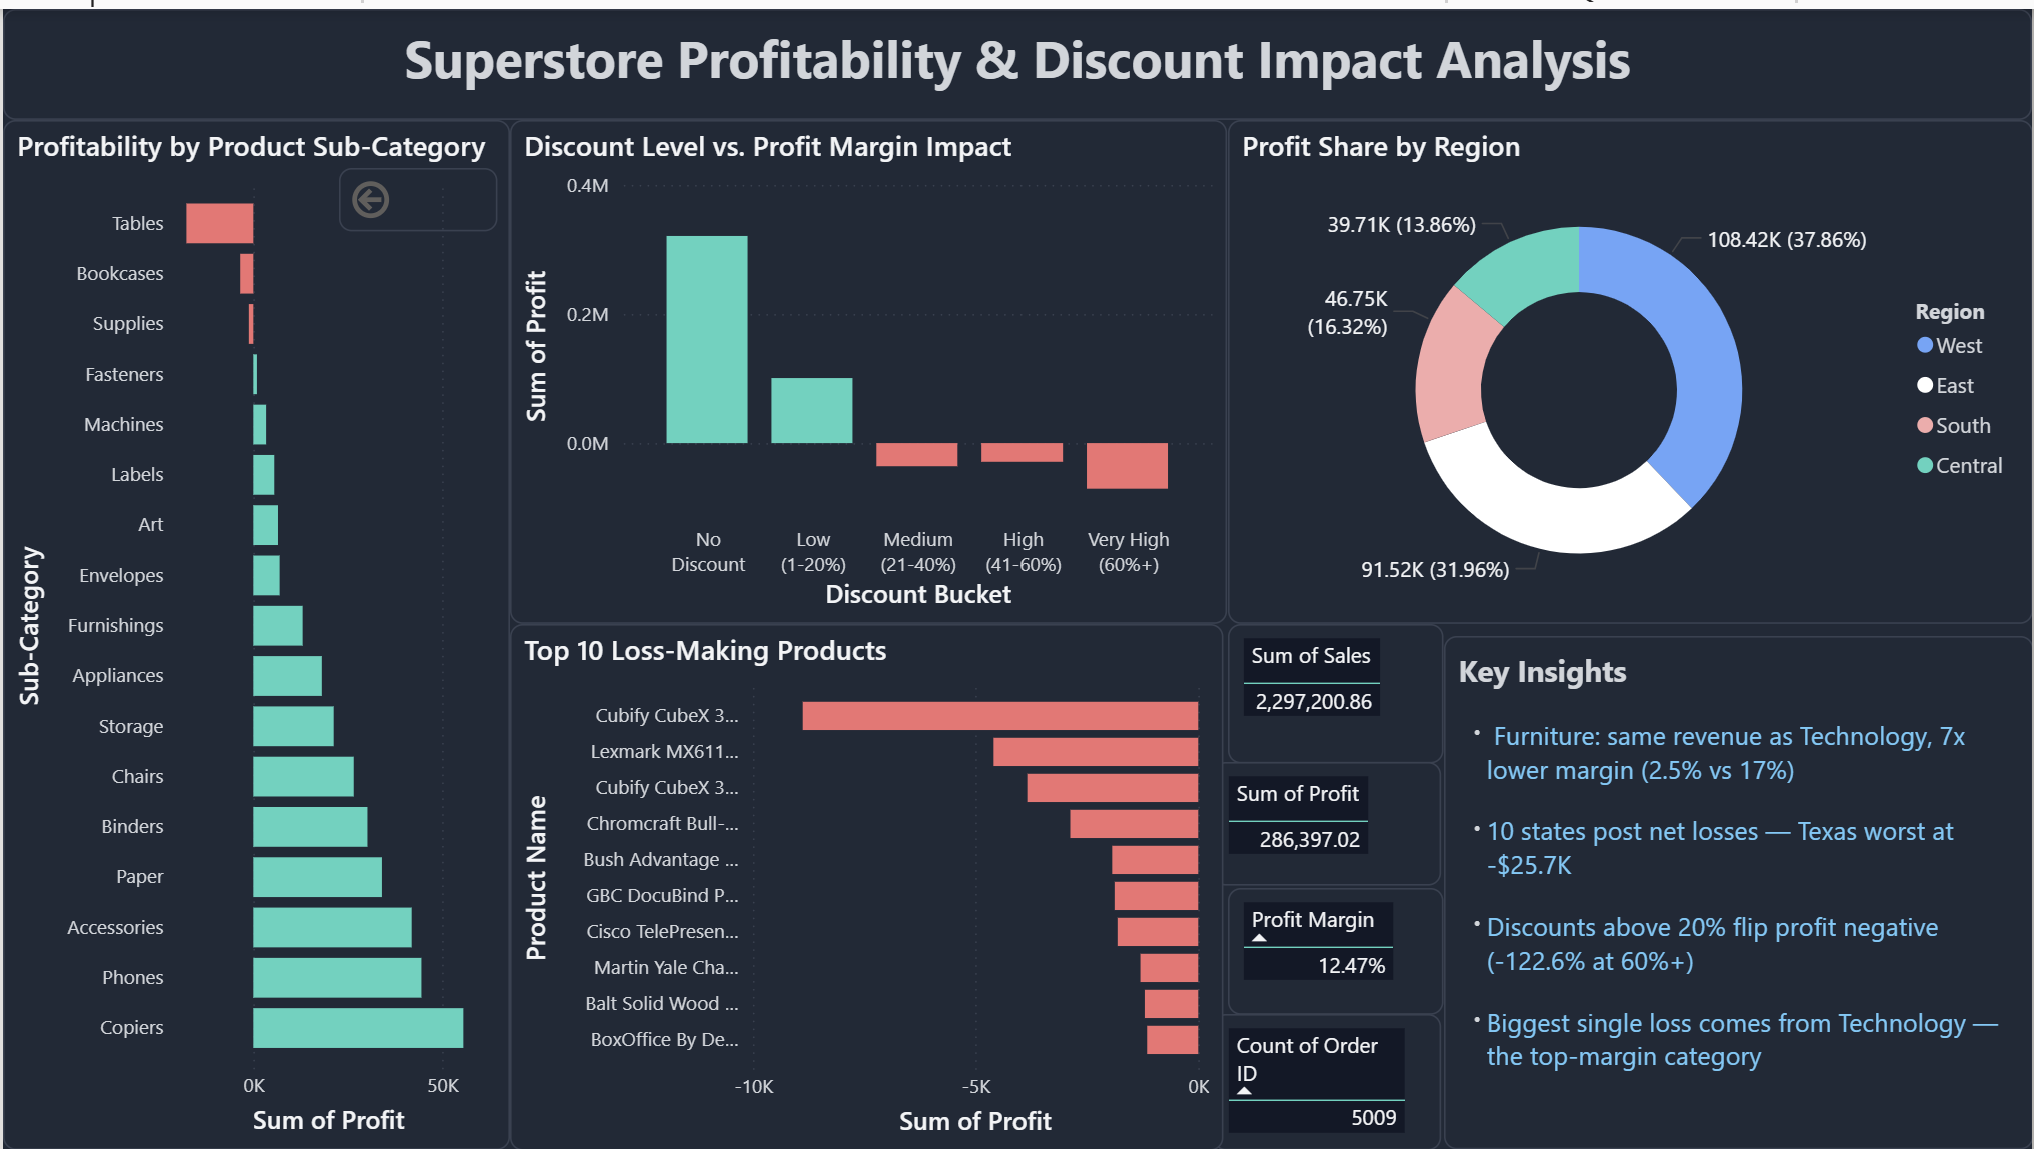

The dashboard page shown, as its layout file describes it:
{"tool":"powerbi","page":{"name":"Page 1","canvas":[1280,720],"ordinal":0},"visuals":[{"type":"tableEx","fields":{"Values":["Sum(Sample - Superstore.Sales)"]},"box":[772,388,136,88],"z":0},{"type":"tableEx","fields":{"Values":["Sum(Sample - Superstore.Profit)"]},"box":[764,476,144,78],"z":1000},{"type":"tableEx","fields":{"Values":["Sample - Superstore.Order ID"]},"box":[764,634,144,86],"z":2000},{"type":"tableEx","fields":{"Values":["Sample - Superstore.Profit Margin"]},"box":[772,554,136,80],"z":3000},{"type":"clusteredBarChart","title":"Profitability by Product Sub-Category","fields":{"Category":["Sample - Superstore.Sub-Category"],"Y":["Sum(Sample - Superstore.Profit)"]},"box":[0,70,320,650],"z":4000},{"type":"clusteredColumnChart","title":"Discount Level vs. Profit Margin Impact","fields":{"Category":["Sample - Superstore.Discount Bucket"],"Y":["Sum(Sample - Superstore.Profit)"]},"box":[320,70,452,318],"z":5000},{"type":"actionButton","box":[212,100,100,40],"z":6000},{"type":"clusteredBarChart","title":"Top 10 Loss-Making Products","fields":{"Category":["Sample - Superstore.Product Name"],"Y":["Sum(Sample - Superstore.Profit)"]},"box":[319.5,387.8,449.8,332.2],"z":7000},{"type":"donutChart","title":"Profit Share by Region","fields":{"Category":["Sample - Superstore.Region"],"Y":["Sum(Sample - Superstore.Profit)"]},"box":[772,70,508,318],"z":7001},{"type":"textbox","box":[0,0,1280,70],"z":7002},{"type":"textbox","box":[908,396,372,324],"z":7003}]}

Visuals, with their boxes in screenshot pixels (x1, y1, x2, y2), scaled from the page's 1280x720 canvas onto the 2034x1149 screenshot:
tableEx - Sum(Sample - Superstore.Sales): select_region(1227, 619, 1443, 760)
tableEx - Sum(Sample - Superstore.Profit): select_region(1214, 760, 1443, 884)
tableEx - Sample - Superstore.Order ID: select_region(1214, 1012, 1443, 1148)
tableEx - Sample - Superstore.Profit Margin: select_region(1227, 884, 1443, 1012)
"Profitability by Product Sub-Category" clusteredBarChart: select_region(0, 112, 508, 1148)
"Discount Level vs. Profit Margin Impact" clusteredColumnChart: select_region(508, 112, 1227, 619)
actionButton: select_region(337, 160, 496, 223)
"Top 10 Loss-Making Products" clusteredBarChart: select_region(508, 619, 1222, 1148)
"Profit Share by Region" donutChart: select_region(1227, 112, 2033, 619)
textbox: select_region(0, 0, 2033, 112)
textbox: select_region(1443, 632, 2033, 1148)
